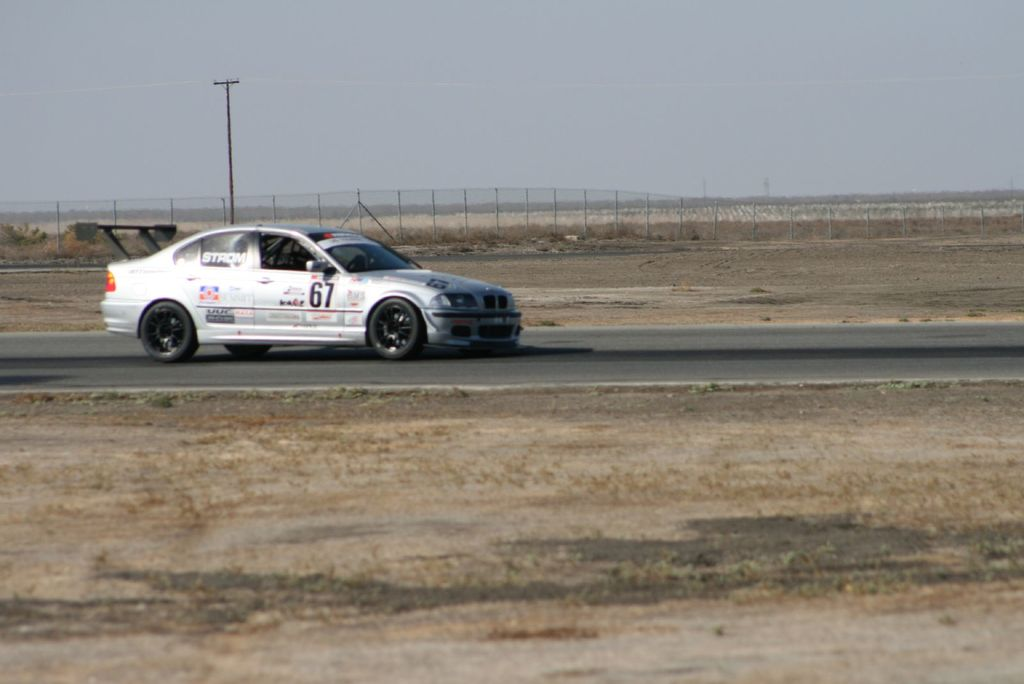cars: (66, 220, 522, 359)
